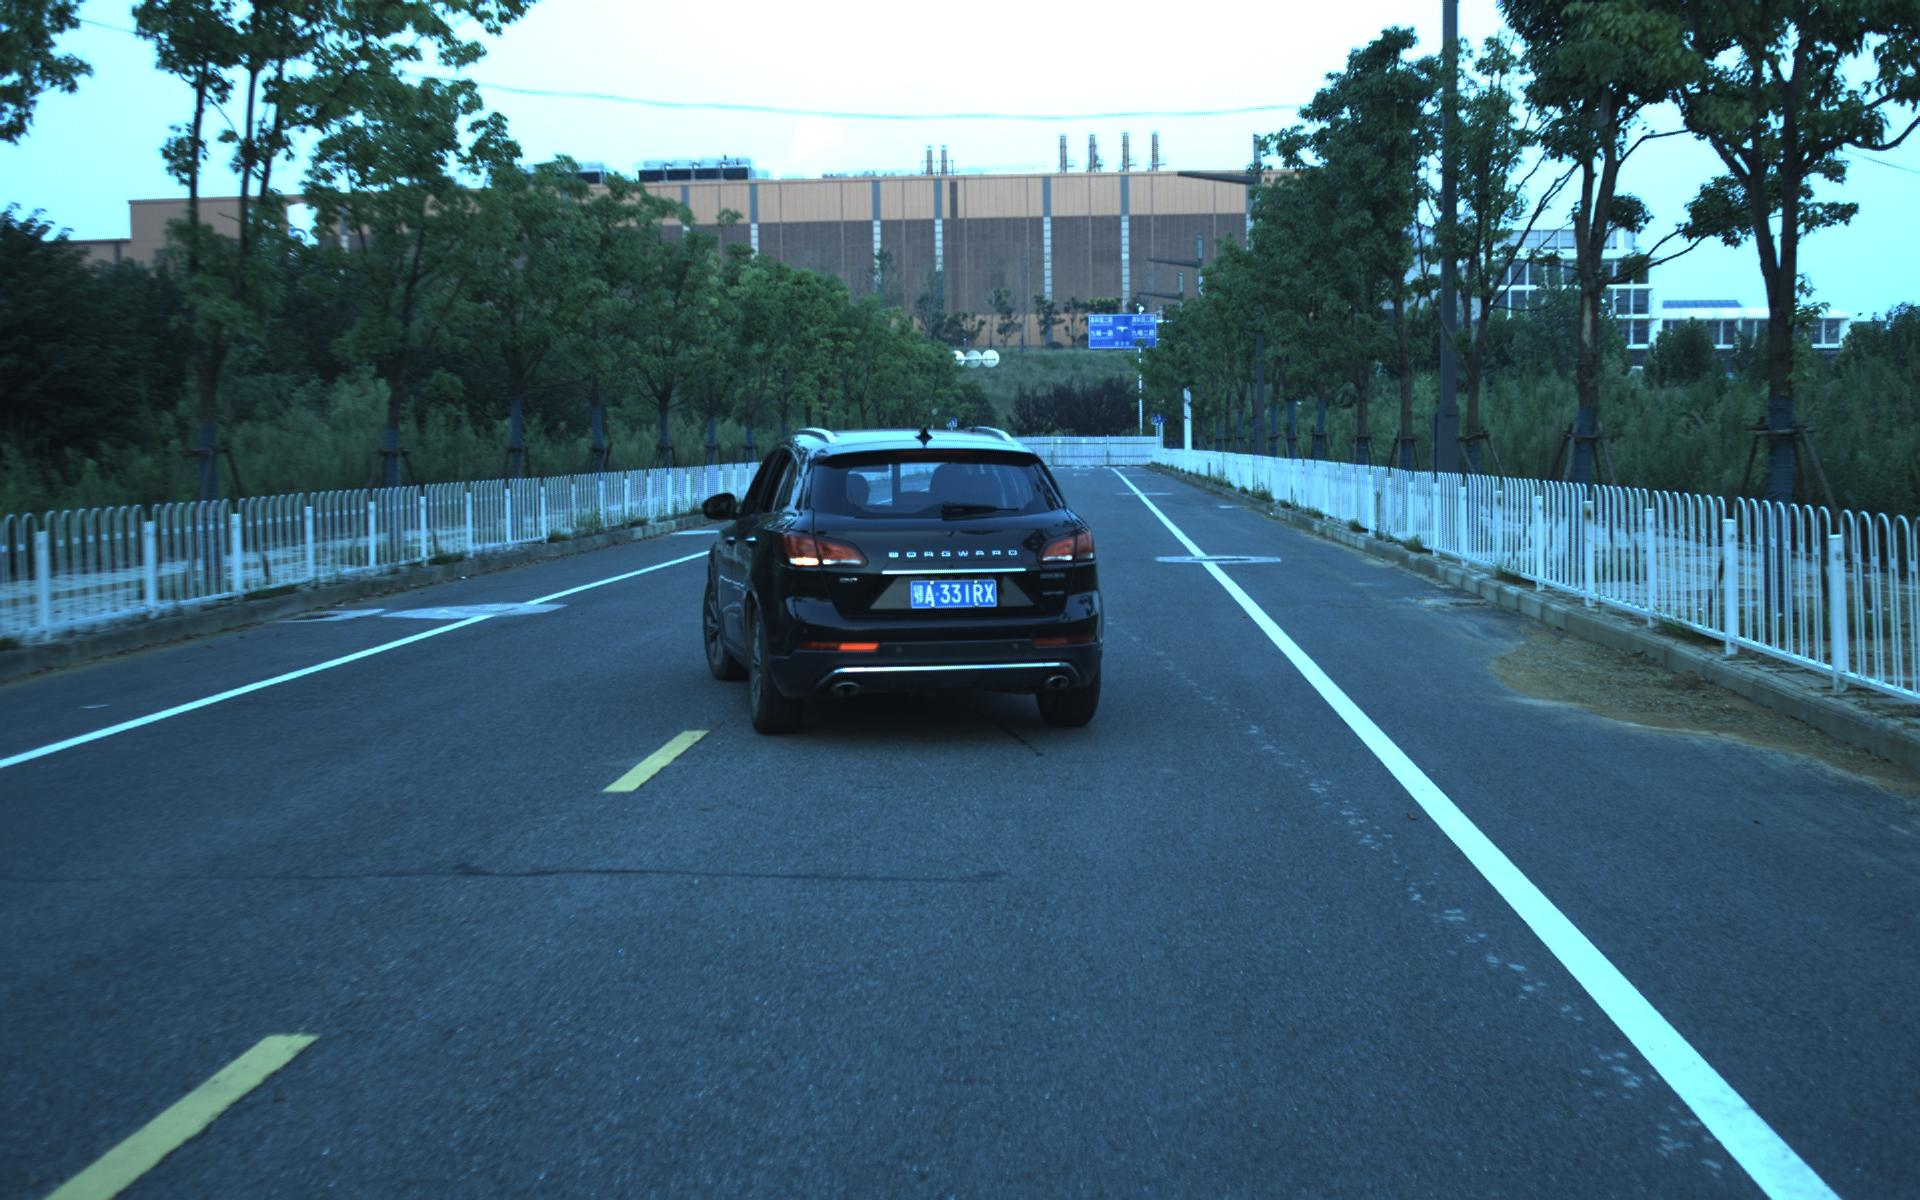Car: (693, 416, 1109, 752)
